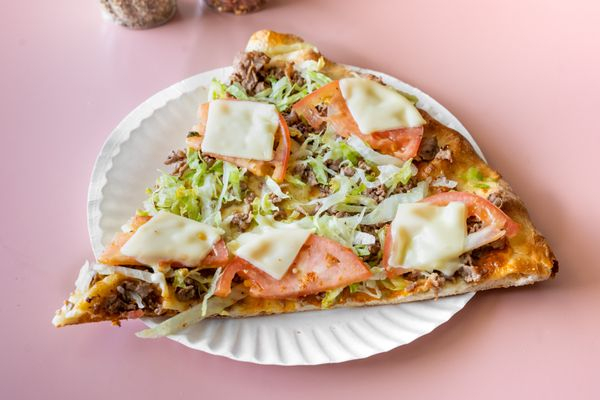curry: (3, 1, 595, 390)
sandwich: (52, 29, 535, 338)
